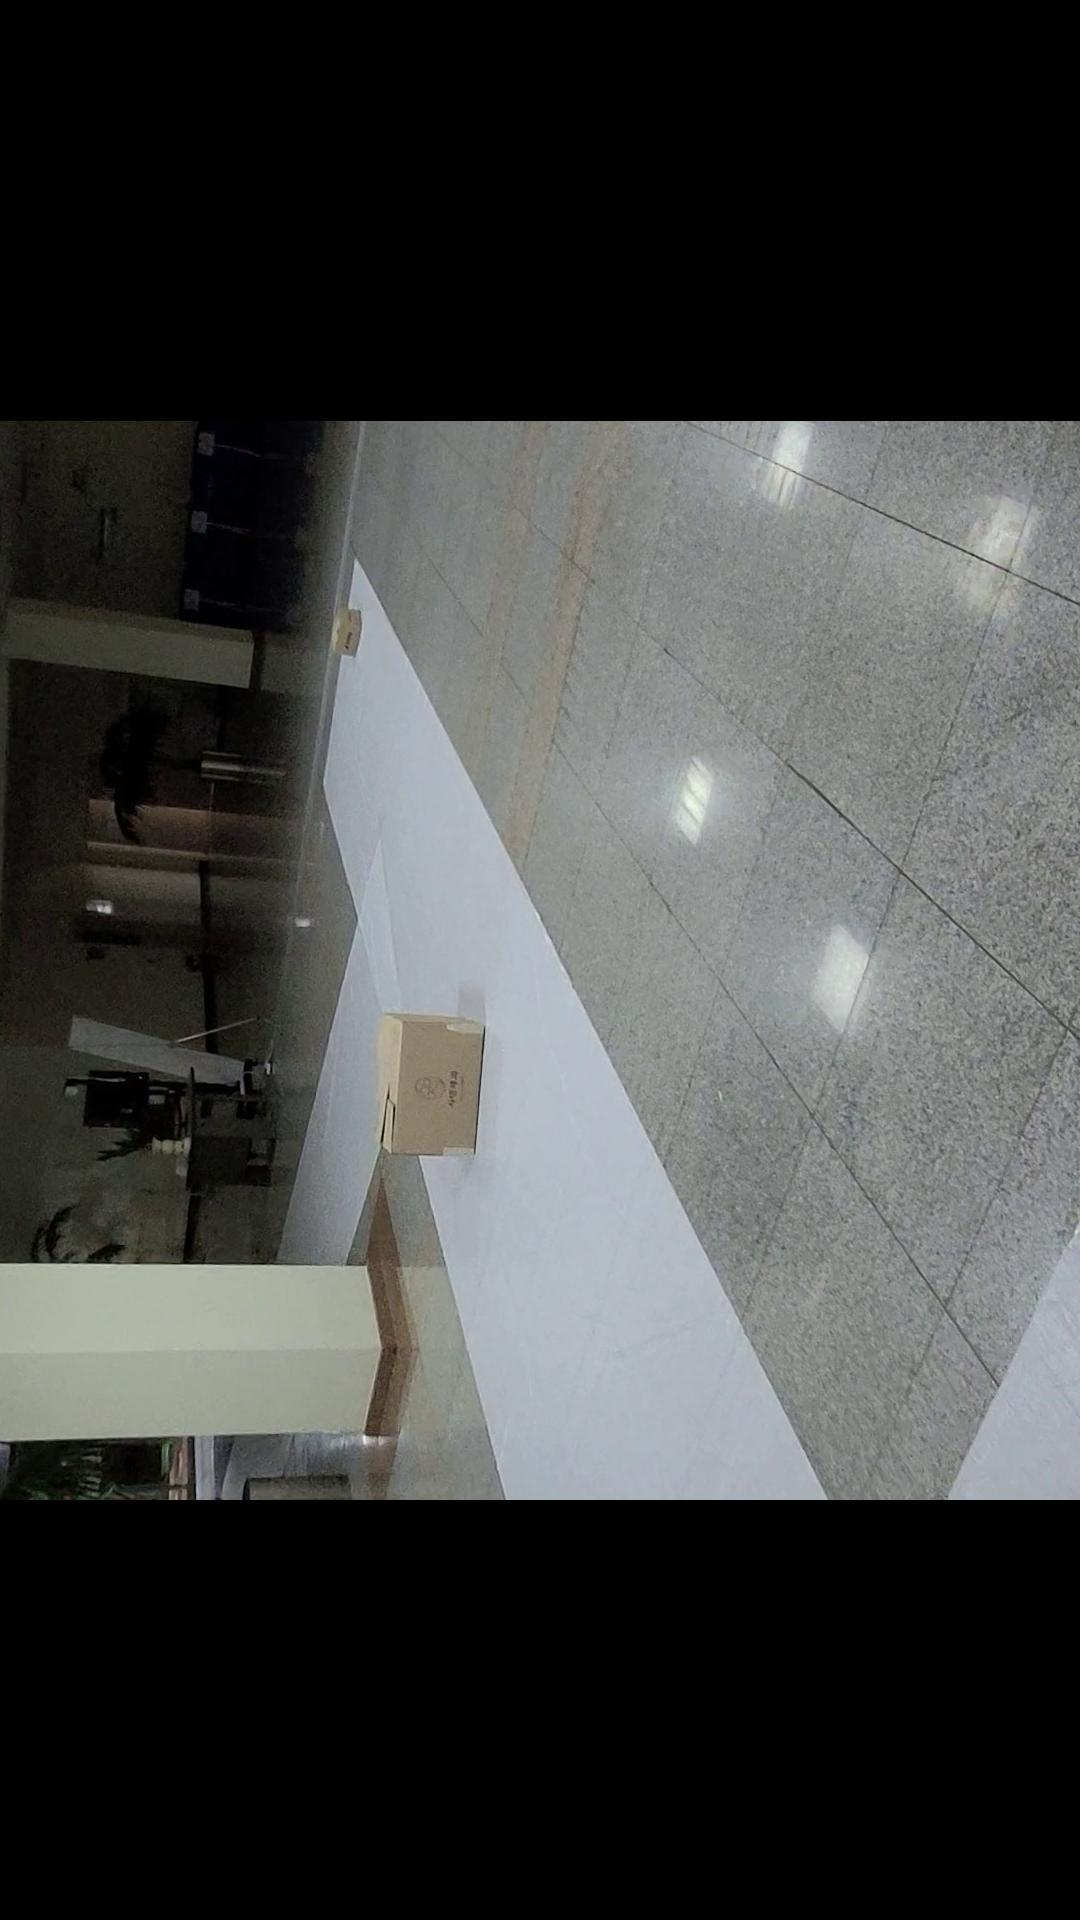Box: (353, 975, 538, 1197), (318, 582, 396, 692)
